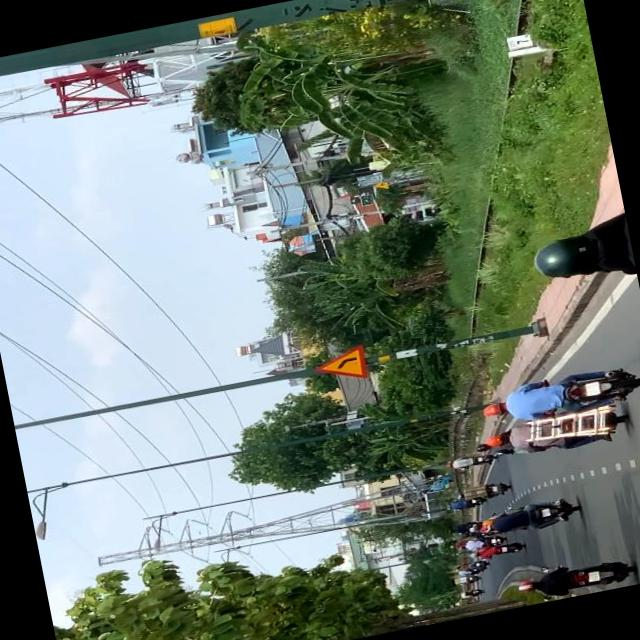W-201a: (312, 346, 370, 386)
